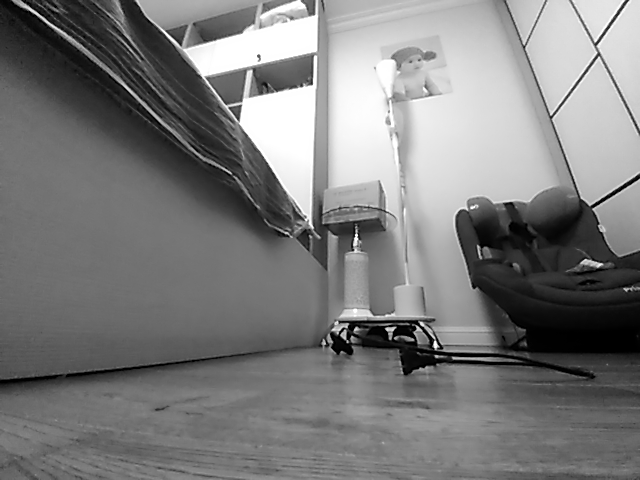wire: (325, 326, 595, 385)
